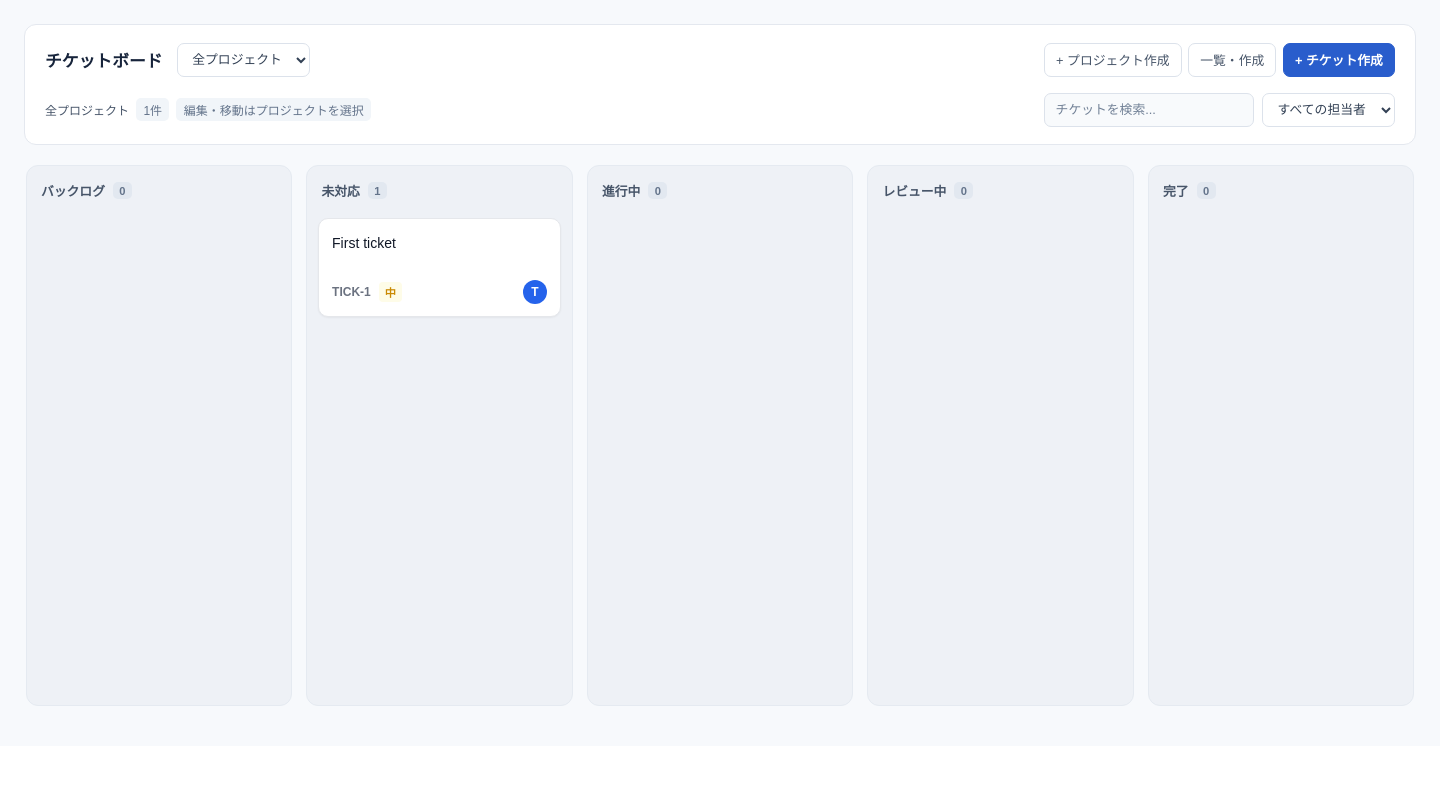
Test case: posts a comment from ticket details through the comment API
This screenshot has width=1440, height=810.
Select "General" in the dropdown named "プロジェクト" at (243, 60), box [177,43,310,77]
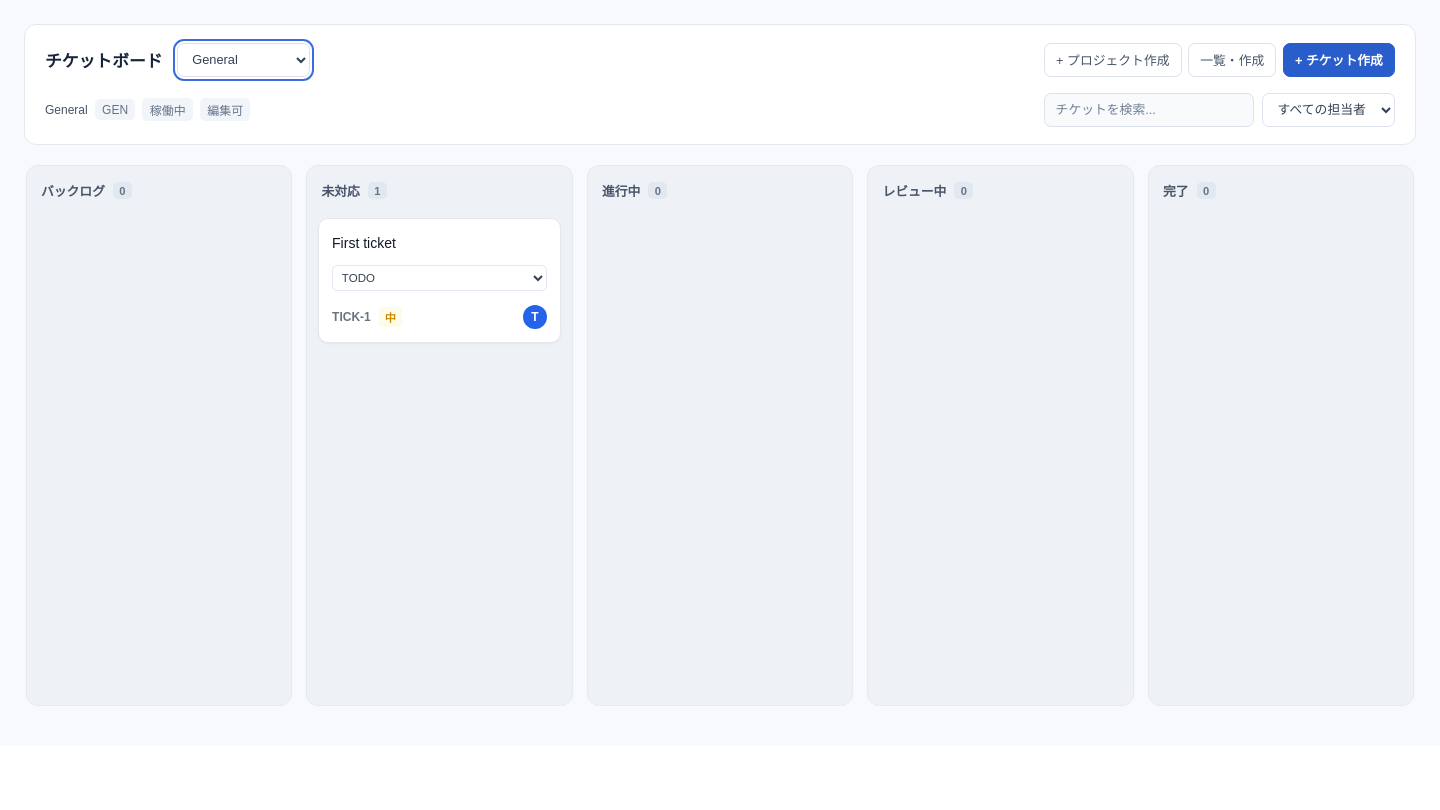
Click the button with aria-label "TICK-1 の詳細を開く" at (364, 243), box [332,232,396,255]
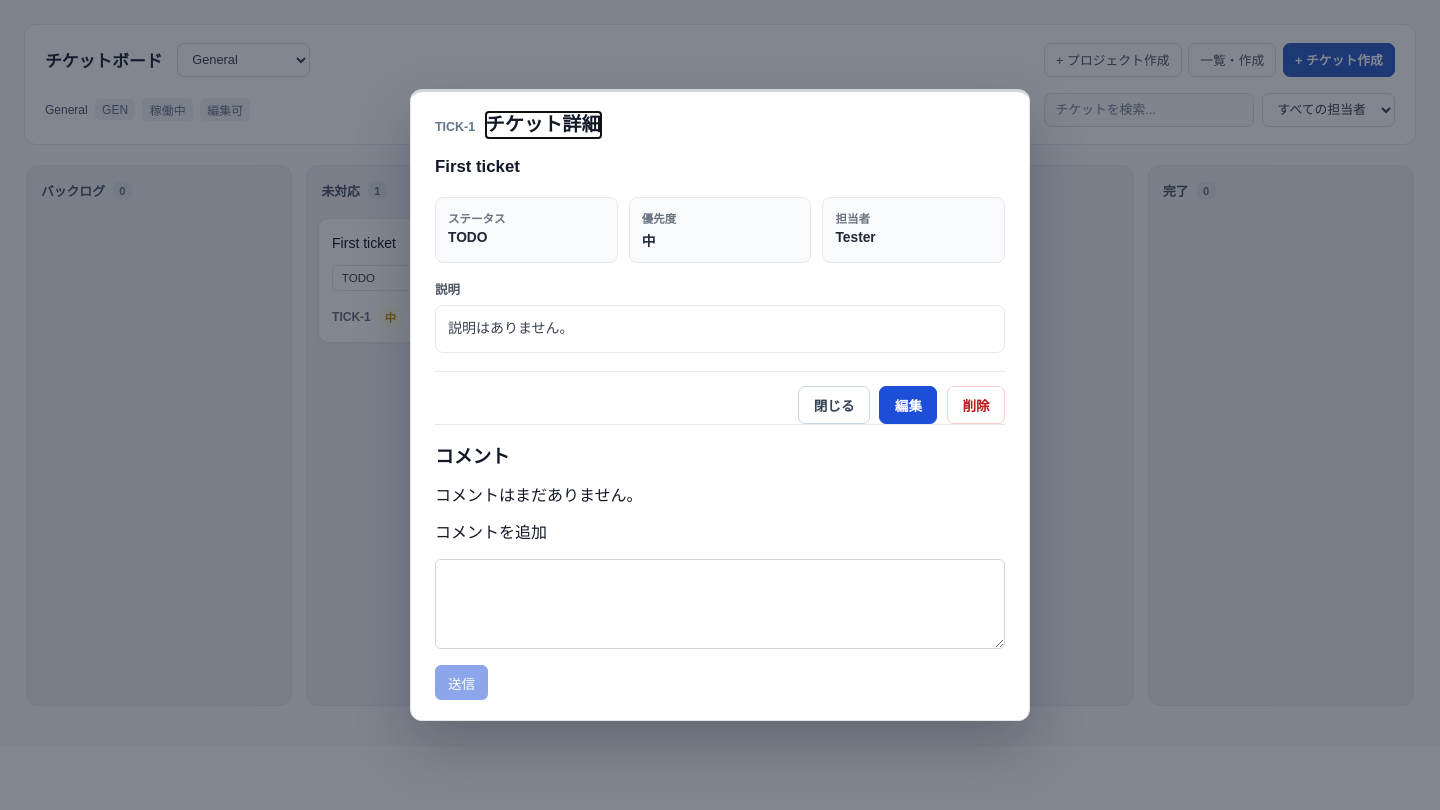
Expected: the heading "チケット詳細" is shown, [486,112,601,138]
Expected: the text "コメントはまだありません。" is shown, [435,487,642,504]
Type "A comment submitted from the board" into the text box labelled "コメントを追加" at (720, 604), box [435,559,1005,649]
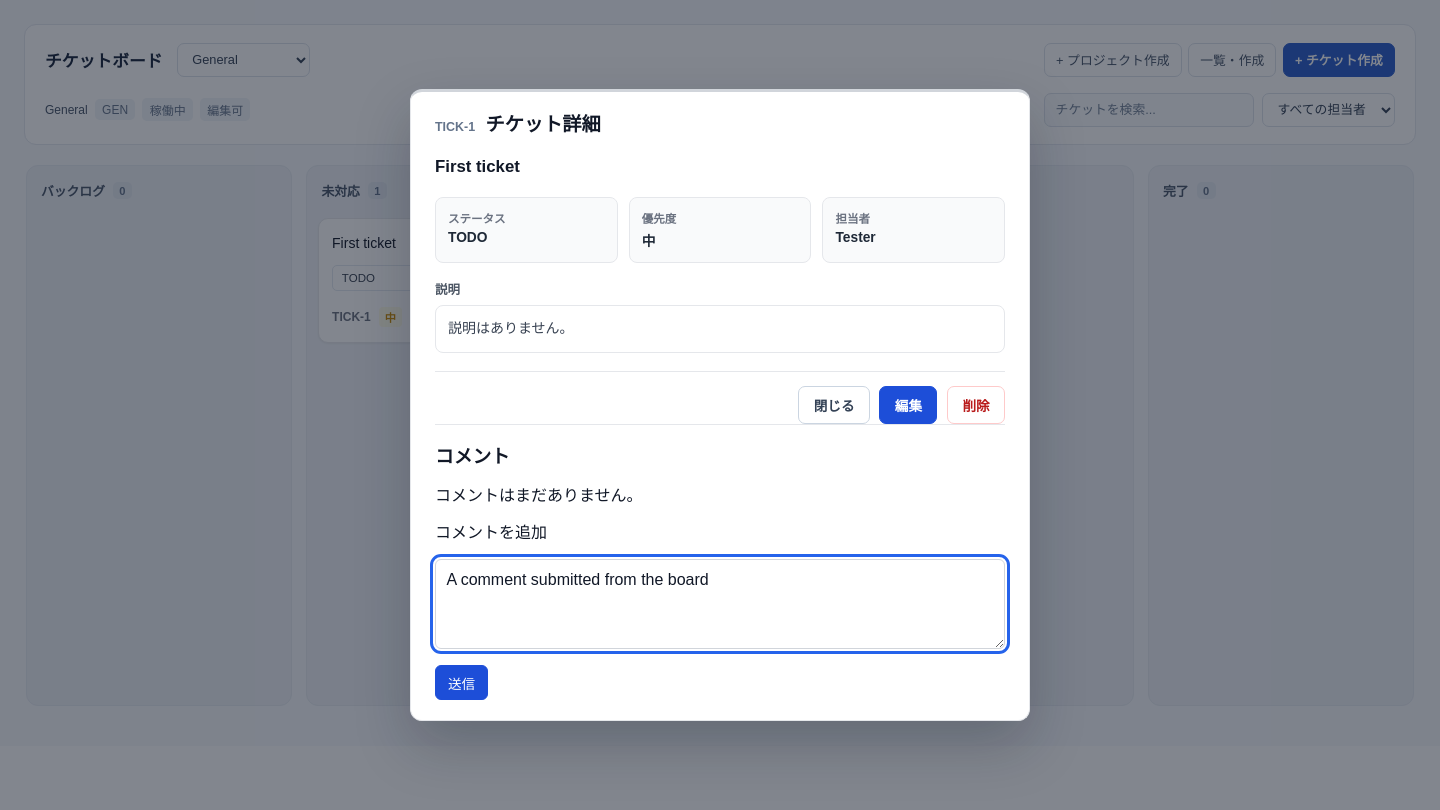
Click the button "送信" at (462, 683), box [435,665,488,700]
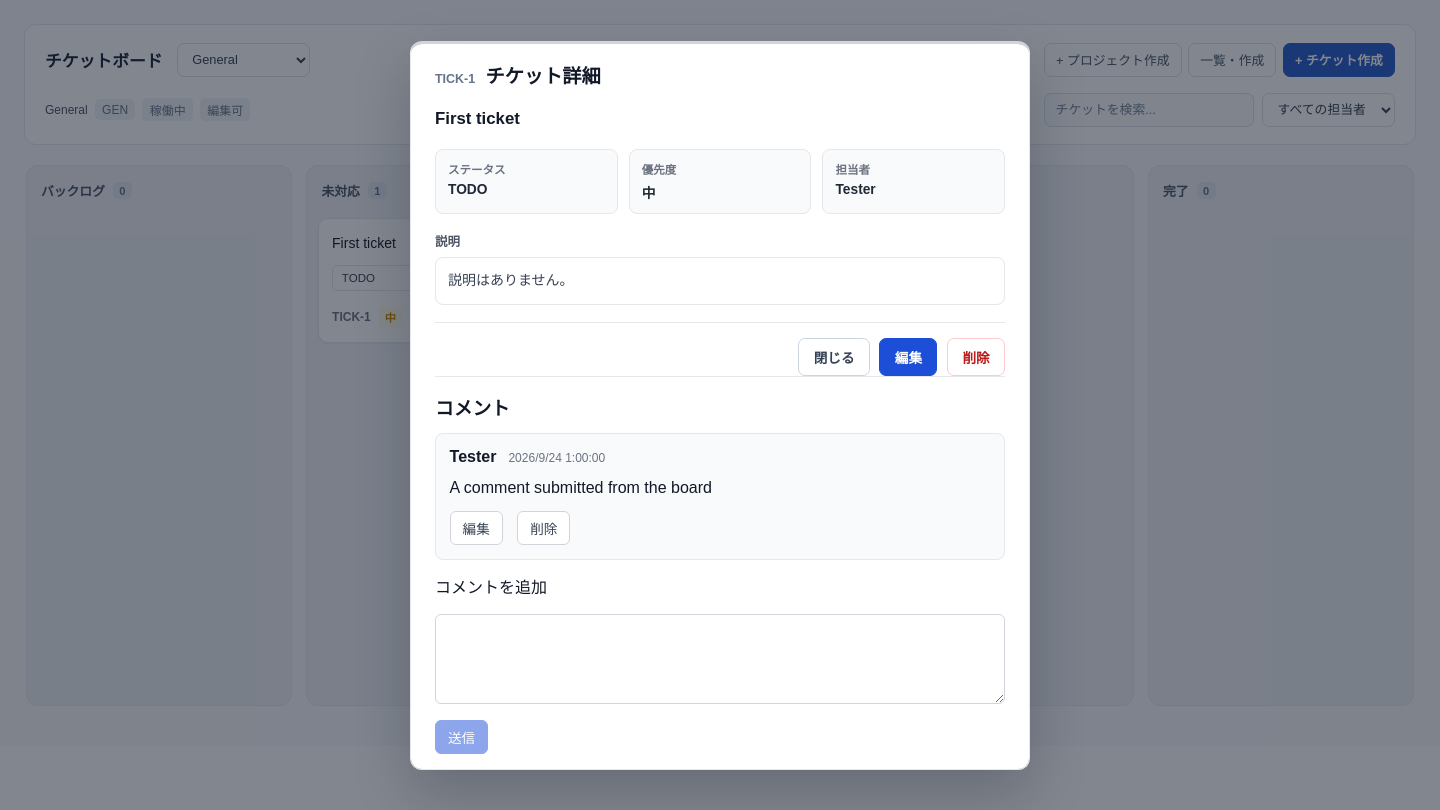
Expected: the text "A comment submitted from the board" is shown, [450,479,712,496]
Expected: the text "Tester" next to "2026/9/24 1:00:00" is shown, [450,448,496,465]
